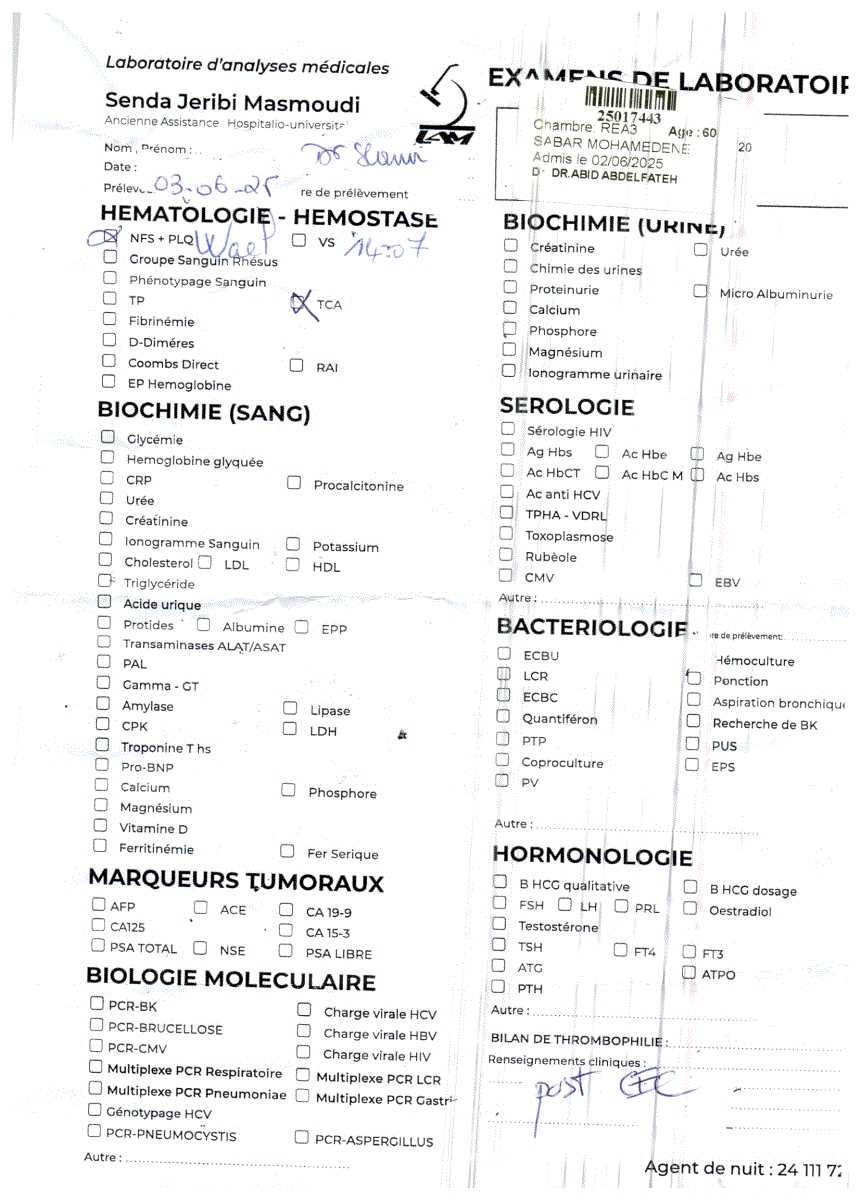zone_analyses: (81, 199, 834, 1189)
zone_date: (153, 171, 284, 197), (591, 151, 664, 165)
zone_patient: (531, 128, 698, 145)
zone_prescripteur: (302, 140, 435, 171), (531, 164, 681, 181)
